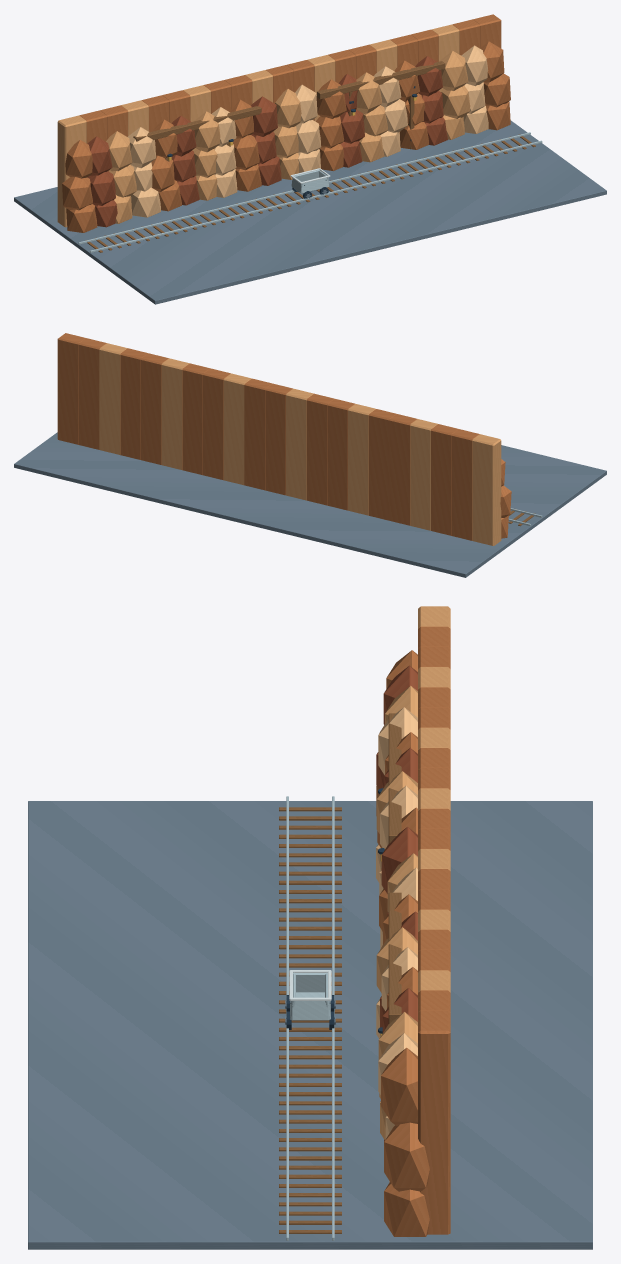
File: showroom.glb
3 renders of one model, top to bottom at view 1: azimuth 30°, elevation 25°; view 2: azimuth 150°, elevation 25°; view 3: azimuth 270°, elevation 25°, orthographic. The views are drawn at different scales.
Visible parts, largest first — view 1: Floor, BackWall, Rail, Rail.001, CutRock.001, CutRock.002, CutRock.056, CutRock.011, CutRock.032, CutRock.029, CutRock.020, CutRock.044 (+77 smaller); view 2: Floor, BackWall, BackWall.001, BackWall.005, BackWall.008, BackWall.011, BackWall.019, BackWall.004, BackWall.015, BackWall.012, BackWall.018, BackWall.020 (+10 smaller); view 3: Floor, BackWall.020, CutRock.061, CutRock.062, CutRock.060, Rail, Rail.001, CutRock.029, CutRock.011, CutRock.044, CutRock.056, CutRock.023.
Boxes of the visible parts, box(x1,y1,x2,y2) form: Floor: box(14, 120, 606, 304); BackWall: box(57, 115, 86, 227); Rail: box(90, 140, 542, 252); Rail.001: box(78, 132, 530, 244); CutRock.001: box(62, 177, 92, 210); CutRock.002: box(65, 140, 92, 178); CutRock.056: box(439, 50, 468, 90); CutRock.011: box(127, 127, 155, 168); CutRock.032: box(275, 89, 301, 128); CutRock.029: box(251, 96, 277, 136); CutRock.020: box(193, 111, 220, 152); CutRock.044: box(356, 72, 381, 113); Floor: box(14, 432, 606, 577); BackWall: box(472, 434, 501, 545); BackWall.001: box(451, 429, 479, 540); BackWall.005: box(368, 409, 396, 520); BackWall.008: box(306, 393, 334, 505); BackWall.011: box(244, 378, 272, 490); BackWall.019: box(78, 338, 106, 449); BackWall.004: box(389, 414, 416, 525); BackWall.015: box(161, 358, 189, 469); BackWall.012: box(223, 373, 251, 485); BackWall.018: box(99, 343, 127, 454); BackWall.020: box(57, 333, 85, 444); Floor: box(28, 801, 592, 1249); BackWall.020: box(418, 1010, 450, 1234); CutRock.061: box(384, 1122, 429, 1191); CutRock.062: box(381, 1047, 417, 1126); CutRock.060: box(384, 1182, 429, 1236); Rail: box(286, 796, 288, 1240); Rail.001: box(332, 796, 334, 1240); CutRock.029: box(381, 827, 417, 893); CutRock.011: box(378, 707, 417, 775); CutRock.044: box(376, 927, 417, 992); CutRock.056: box(378, 1012, 417, 1059); CutRock.023: box(380, 786, 417, 848).
Size of the model in its own units: 48 by 11.5 by 26.
1 material, 1 textured.
